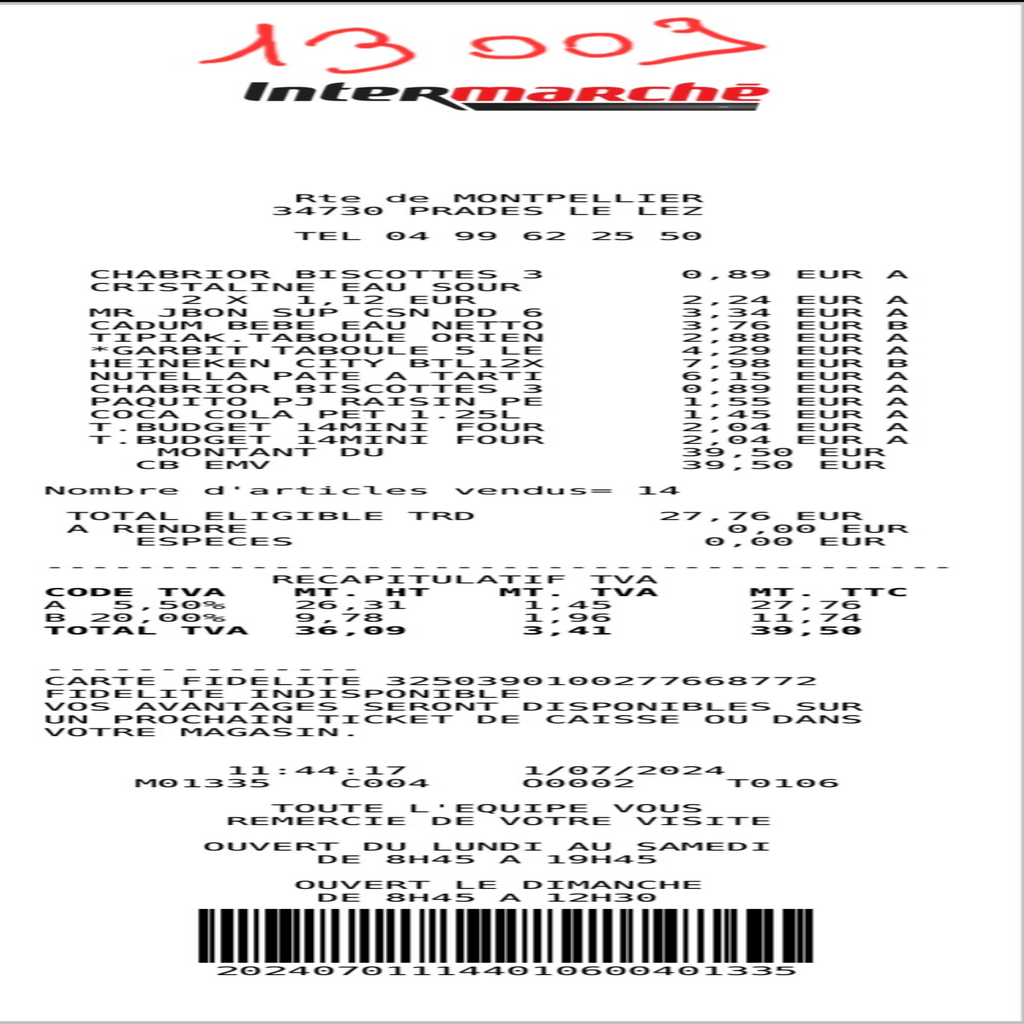recipt: (2, 8, 1022, 1018)
